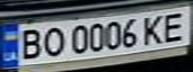0: (66, 22, 90, 55), (103, 18, 124, 51), (87, 20, 106, 53)
6: (121, 16, 145, 48)
B: (12, 26, 45, 61)
E: (157, 9, 193, 43)
K: (139, 11, 169, 46)
O: (36, 25, 69, 57)
